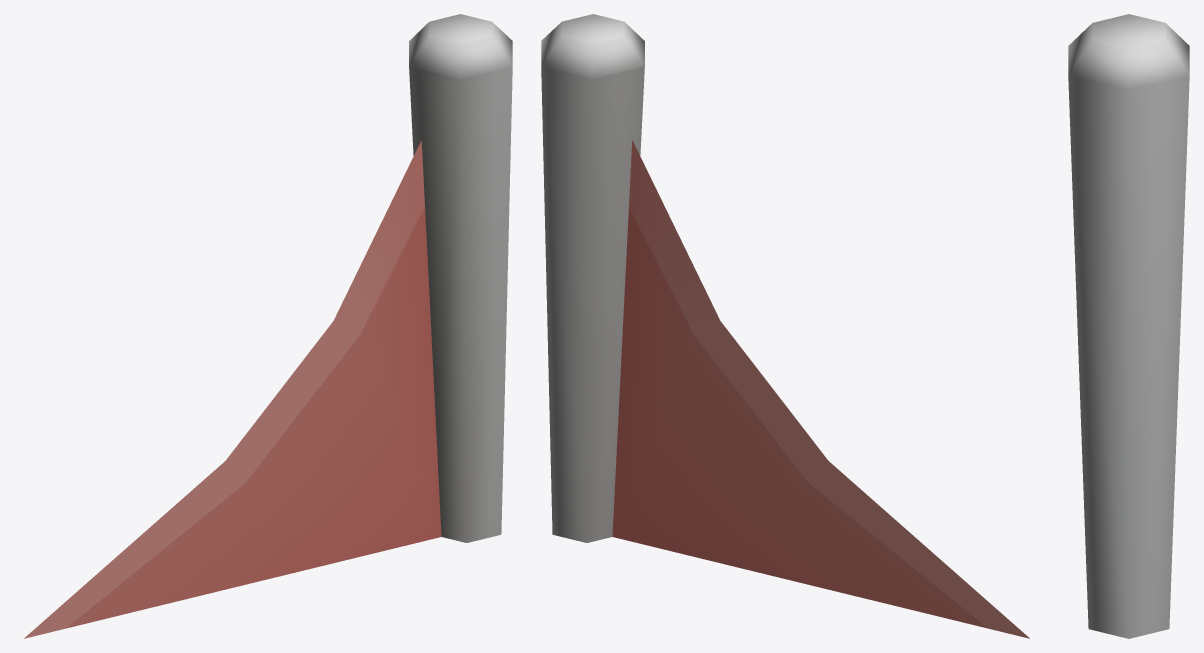
File: SlalomFlagRed.glb
3 views of the same model, side by side, from view 1: azimuth 30°, elevation 25°; view 2: azimuth 150°, elevation 25°; view 3: azimuth 270°, elevation 25° (orthographic). The views are drawn at different scales.
Visible parts, largest first — view 1: SlalomFlagRed; view 2: SlalomFlagRed; view 3: SlalomFlagRed.
Part boxes in pixels (x1=…): SlalomFlagRed: x1=24, y1=14, x2=512, y2=638; SlalomFlagRed: x1=541, y1=14, x2=1029, y2=638; SlalomFlagRed: x1=1068, y1=14, x2=1189, y2=638.
Bounding box in the file's own units: 0.7169 × 0.6914 × 0.1303.
